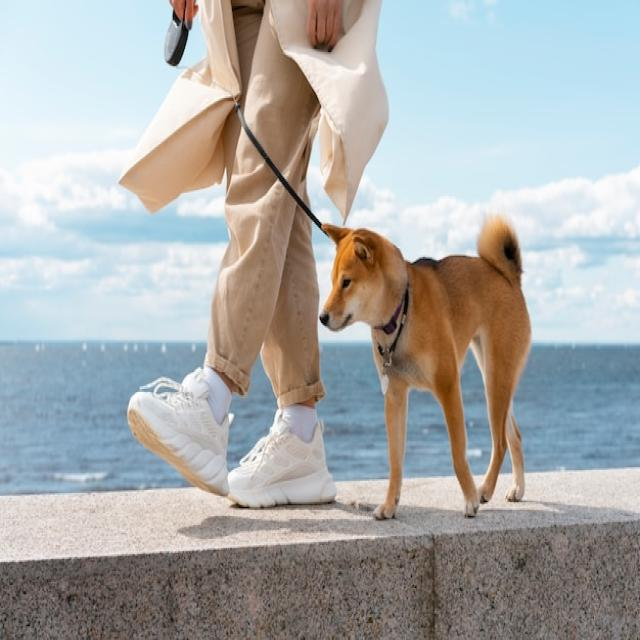Dog: (320, 214, 531, 522)
